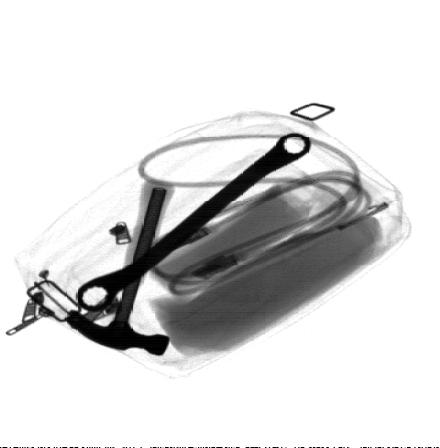Hammer: (63, 175, 175, 356)
Wrench: (74, 132, 309, 312)
